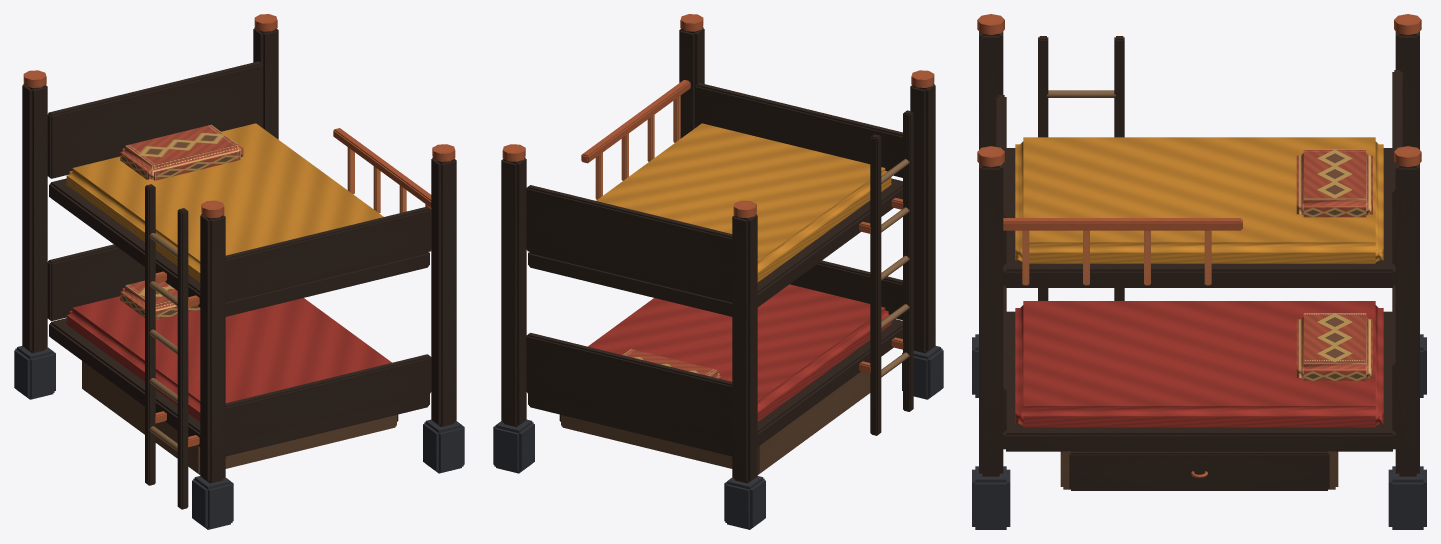
Rendered from bunk_bed_miner.glb.
3 views of the same model, side by side, from view 1: azimuth 30°, elevation 25°; view 2: azimuth 150°, elevation 25°; view 3: azimuth 270°, elevation 25° (orthographic). The views are drawn at different scales.
Parts seen in each view (by area): view 1: bunk_bed_miner; view 2: bunk_bed_miner; view 3: bunk_bed_miner.
Part boxes in pixels (x1,y1,x2,y2): bunk_bed_miner: (14,14,464,529); bunk_bed_miner: (493,14,943,529); bunk_bed_miner: (972,14,1426,529).
Size of the model in its own units: 2.02 by 2.36 by 2.62.
Materials: 1 (1 with a texture image).
